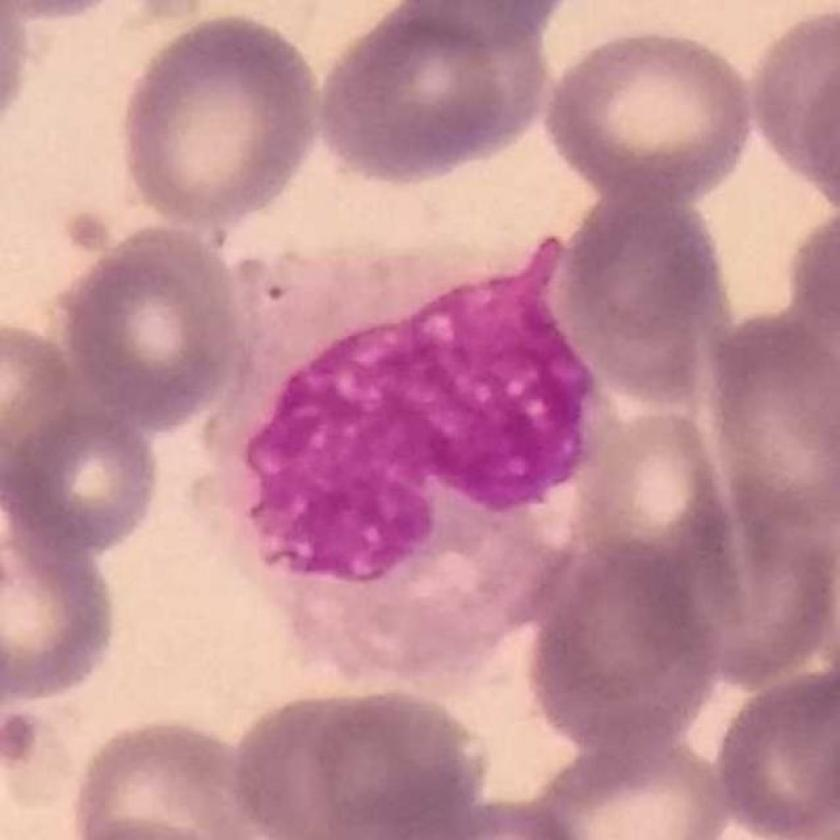monocyte: (194, 226, 620, 697)
